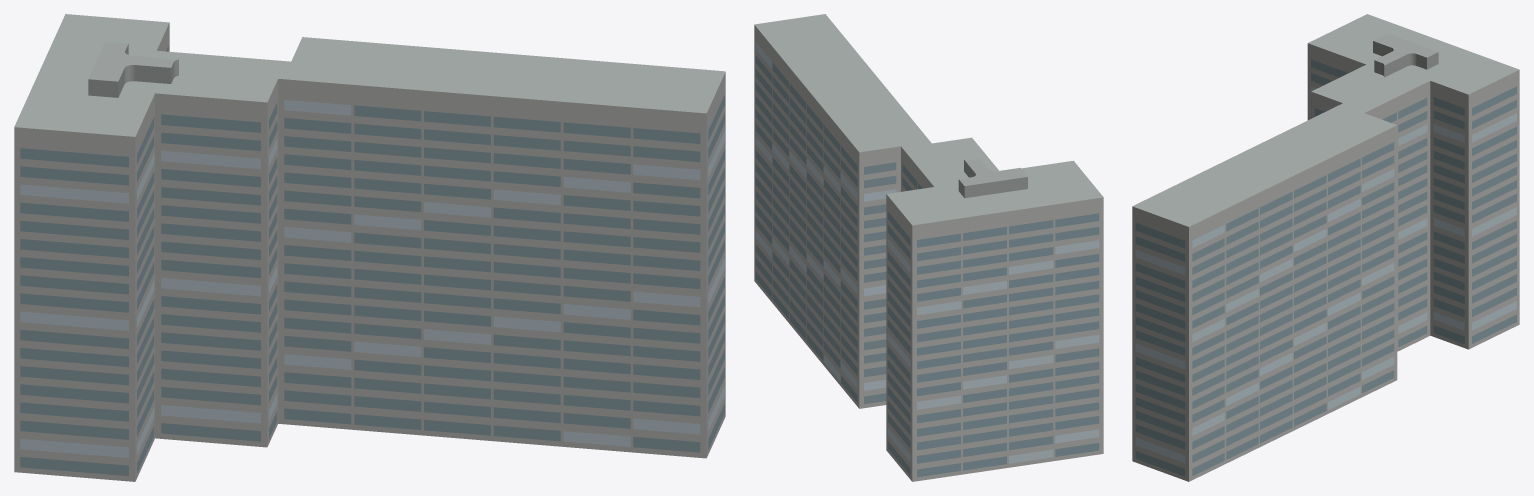
The model's file is apt-a13384301.glb.
The picture shows the model from 3 angles, left to right: view 1: azimuth 30°, elevation 25°; view 2: azimuth 150°, elevation 25°; view 3: azimuth 270°, elevation 25°; orthographic projection. The views are drawn at different scales.
Parts seen in each view (by area): view 1: apt-a13384301; view 2: apt-a13384301; view 3: apt-a13384301.
Boxes of the visible parts, x1,y1,x2,y2 form: apt-a13384301: (14,14,725,481); apt-a13384301: (754,14,1103,481); apt-a13384301: (1132,14,1519,481).
Bounding box in the file's own units: 87.97 × 51.4 × 67.63.
